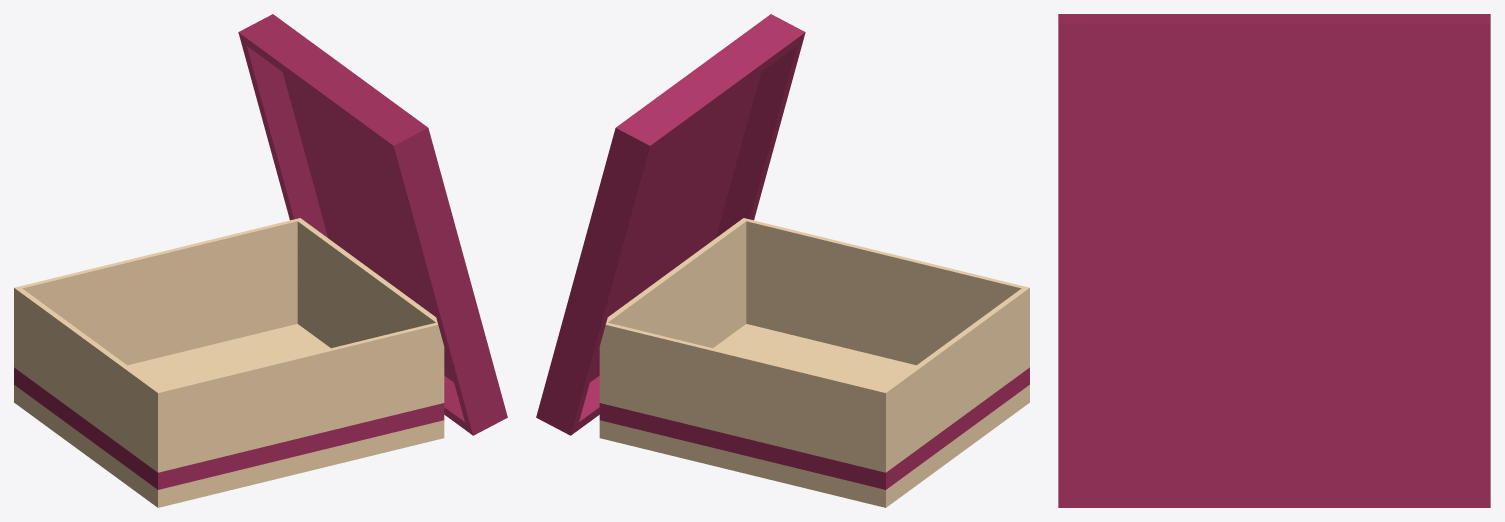
File: Prop_SmallStorageBox_02.fbx
The picture shows the model from 3 angles, left to right: view 1: azimuth 30°, elevation 25°; view 2: azimuth 150°, elevation 25°; view 3: azimuth 270°, elevation 25°; orthographic projection. The views are drawn at different scales.
Parts seen in each view (by area): view 1: Prop_SmallStorageBox_02; view 2: Prop_SmallStorageBox_02; view 3: Prop_SmallStorageBox_02.
Part boxes in pixels (left/top/right/bottom): Prop_SmallStorageBox_02: left=14, top=14, right=507, bottom=507; Prop_SmallStorageBox_02: left=536, top=14, right=1029, bottom=507; Prop_SmallStorageBox_02: left=1058, top=14, right=1490, bottom=507.
Bounding box in the file's own units: 38.88 × 34.53 × 30.41.
